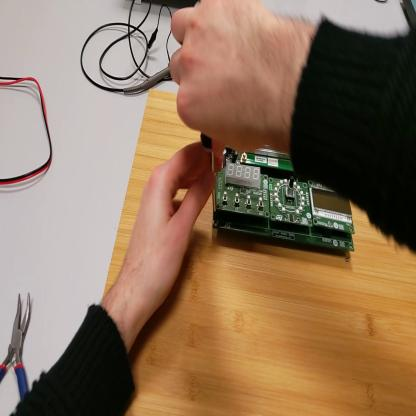hand: (121, 132, 216, 313), (167, 2, 279, 154)
low voltage board: (213, 148, 356, 255)
oscilloscope probe tip: (124, 65, 174, 96)
pliers: (2, 292, 39, 404)
screwdriver-: (202, 126, 217, 222)
working area: (107, 91, 415, 415)
